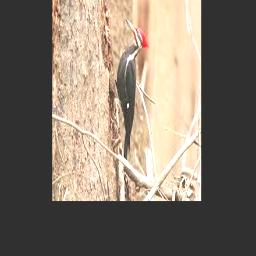Woodpecker: (116, 18, 150, 161)
